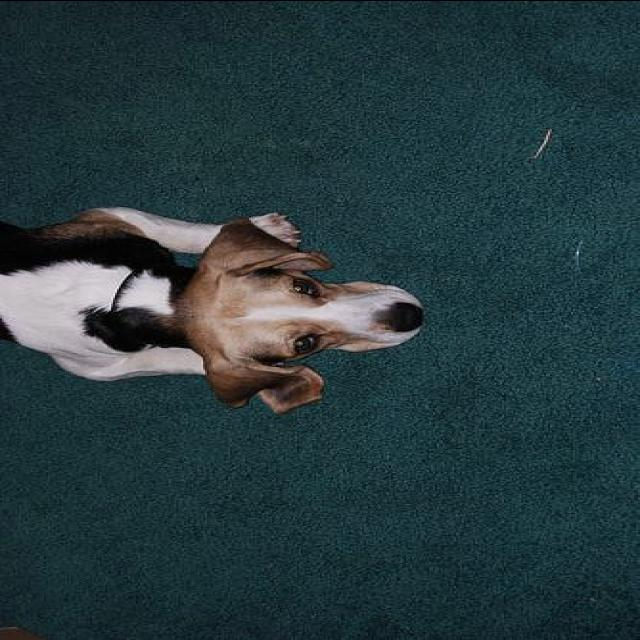beagle: (2, 194, 430, 413)
